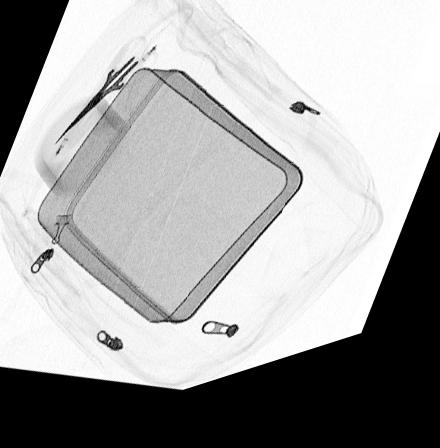Scissors: (53, 41, 158, 150)
